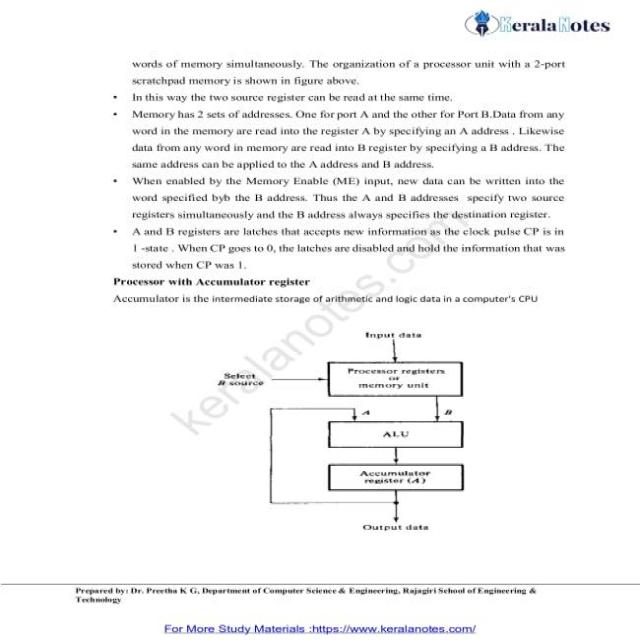Figure Detection - v3 Dataset Version2: (211, 321, 508, 549)
